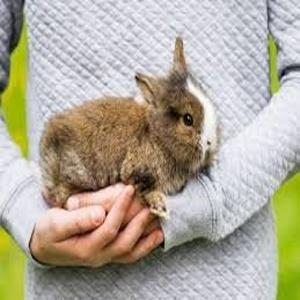rabbit: (38, 38, 221, 222)
